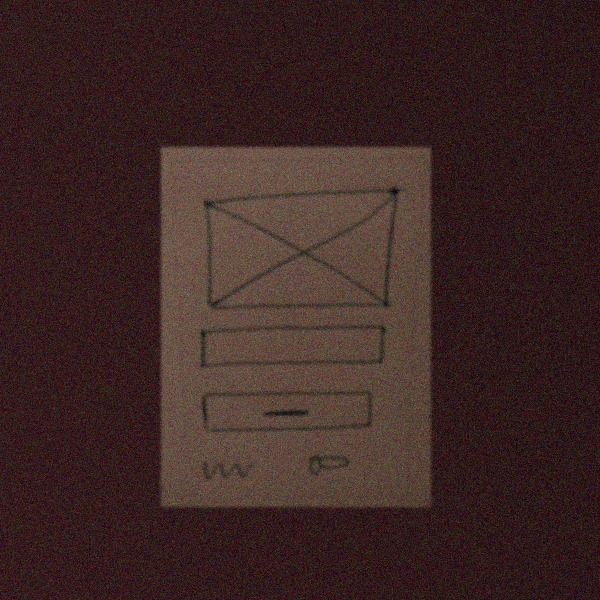button: (197, 388, 377, 438)
image: (198, 186, 400, 314)
switch: (303, 448, 352, 477)
text: (195, 454, 259, 488)
text_input: (193, 324, 388, 369)
